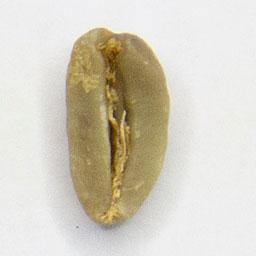longberry: (63, 25, 172, 231)
